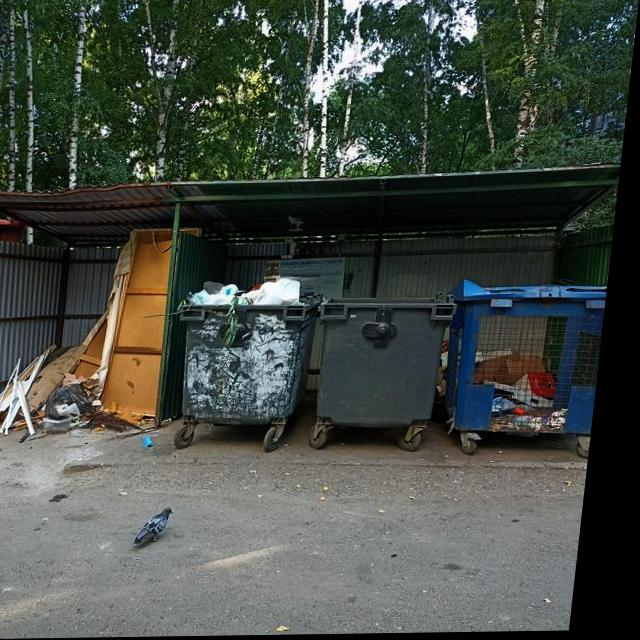Trash_Can_Empty: (447, 277, 615, 440), (320, 295, 466, 430)
Trash_Can_Full: (175, 277, 331, 426)
